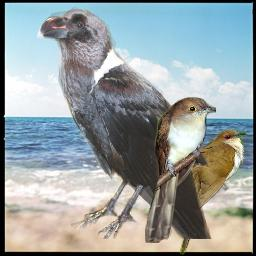Crow: (36, 7, 212, 239)
Cuckoo: (145, 96, 216, 243), (179, 129, 247, 255)
